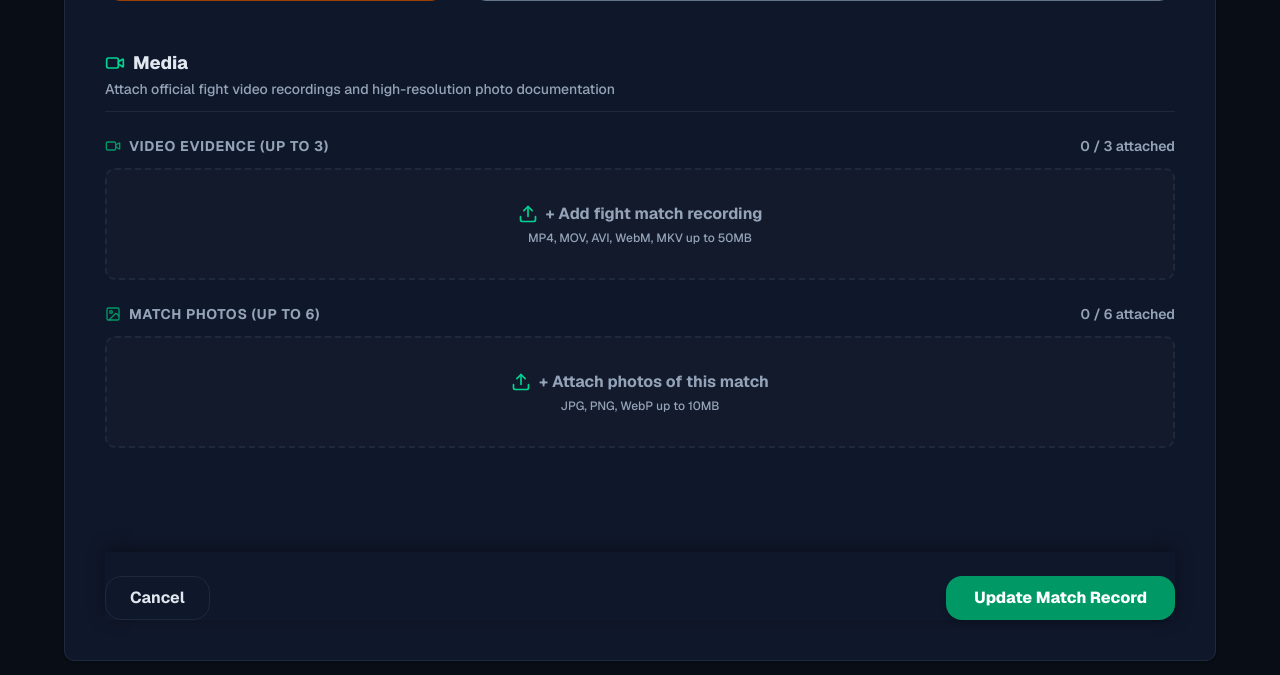
it: MatchRecordForm edit path — cases (a) to (j) [FIXTURE] › Zero-row update — surfaces error in form › shows "could not be updated" error and stays on form when updateMatch returns RLS error
(page scrolled)
Click the button "Update Match Record" at x=1061, y=598, box [946,576,1175,620]
(page scrolled)
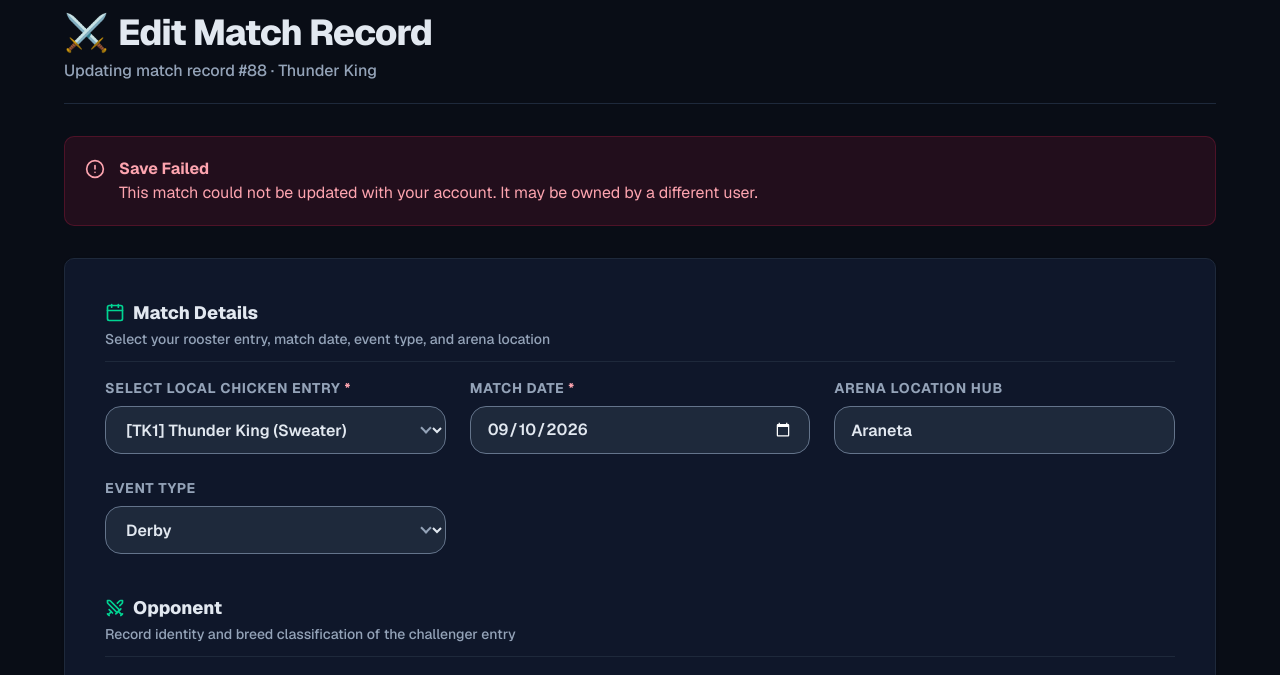
Now the message shows "could not be updated with your account", box [119,182,758,203]
